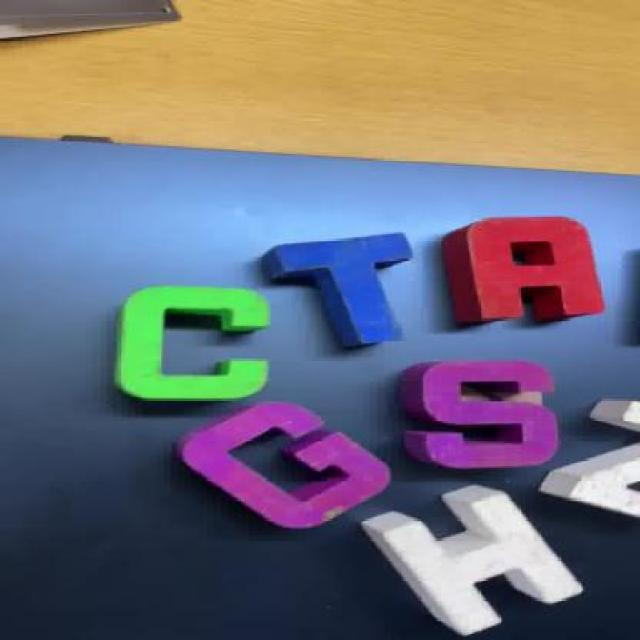A: (440, 217, 612, 326)
C: (113, 287, 276, 399)
G: (180, 402, 394, 535)
H: (390, 488, 578, 640)
S: (411, 357, 558, 481)
T: (251, 237, 429, 354)
